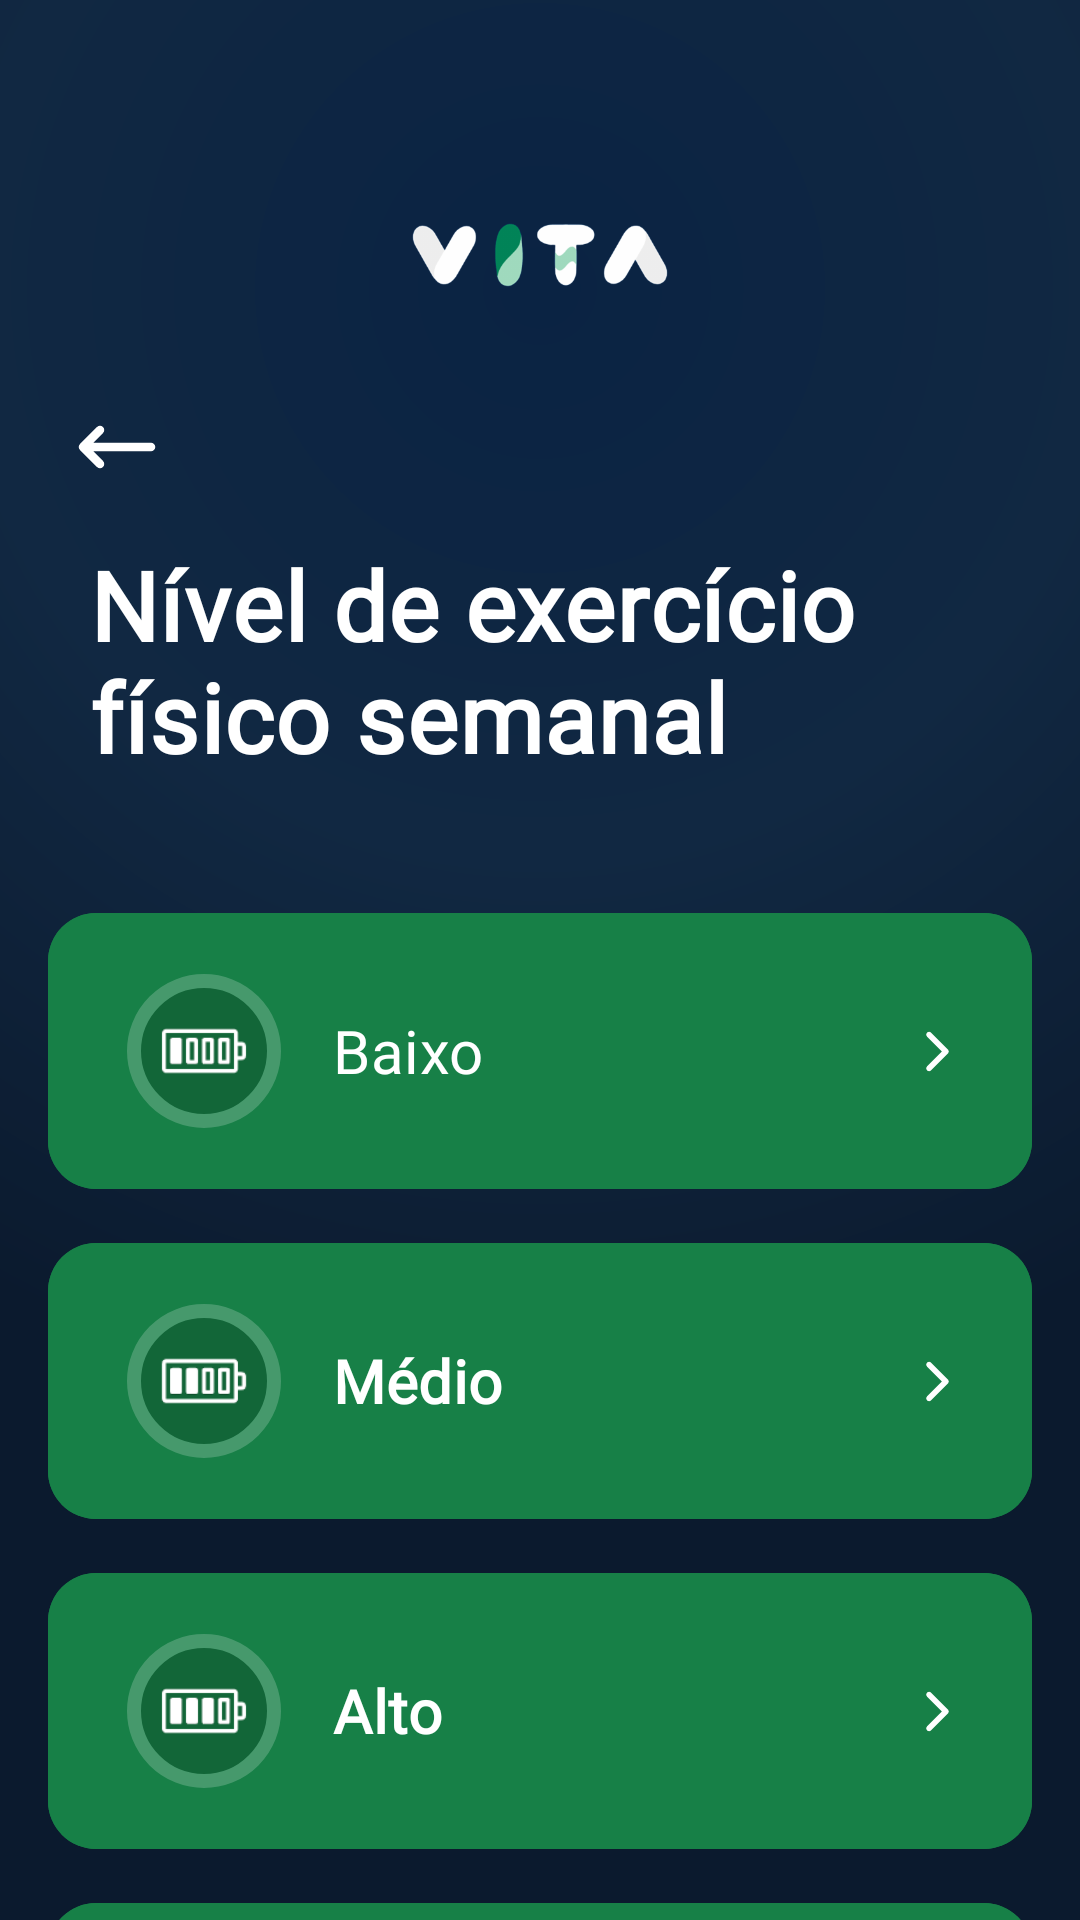

Where icons sit on this 1080x1920 app screen, as (x1, y1, x2, y2):
next: (926, 1031, 949, 1072), (926, 1361, 949, 1402), (926, 1691, 949, 1732)
Voltar: (78, 425, 156, 469)
